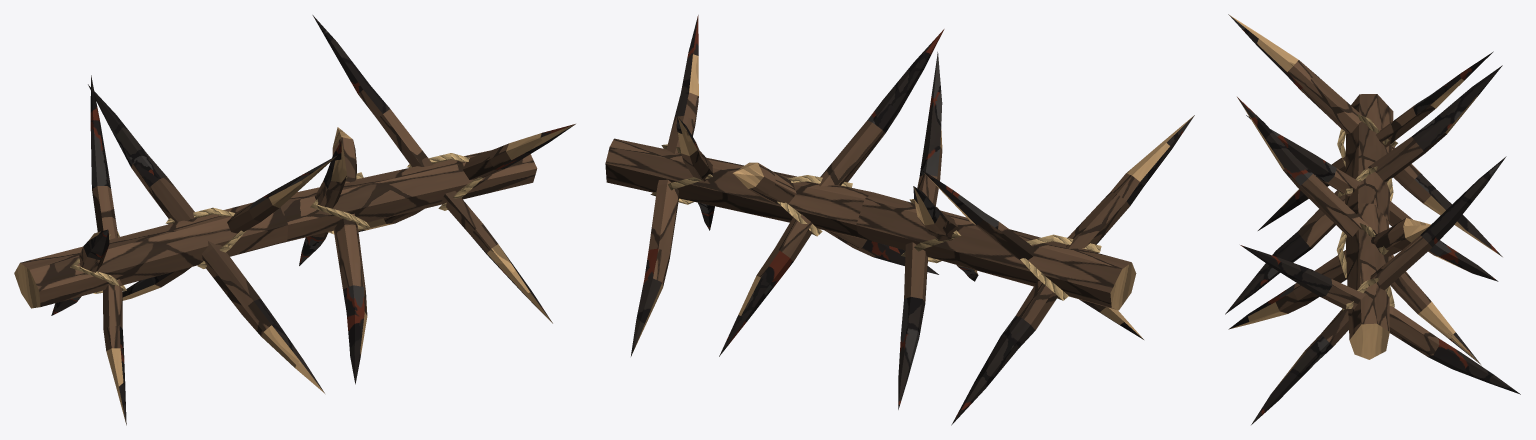
Rendered from SM_SpikedBarricade.fbx.
3 renders of one model, left to right at view 1: azimuth 30°, elevation 25°; view 2: azimuth 150°, elevation 25°; view 3: azimuth 270°, elevation 25°, orthographic. The views are drawn at different scales.
Parts seen in each view (by area): view 1: SM_SpikedBarricade; view 2: SM_SpikedBarricade; view 3: SM_SpikedBarricade.
Part boxes in pixels (x1,y1,x2,y2): SM_SpikedBarricade: (14, 15, 575, 425); SM_SpikedBarricade: (605, 15, 1194, 425); SM_SpikedBarricade: (1225, 14, 1520, 424).
Bounding box in the file's own units: 2.24 × 1.04 × 1.22.
